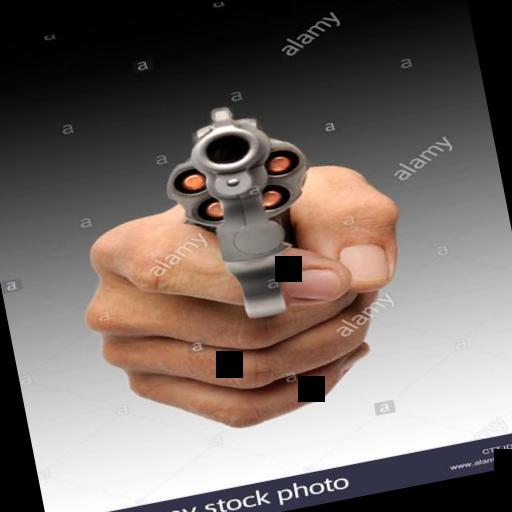Handgun: (141, 92, 337, 340)
